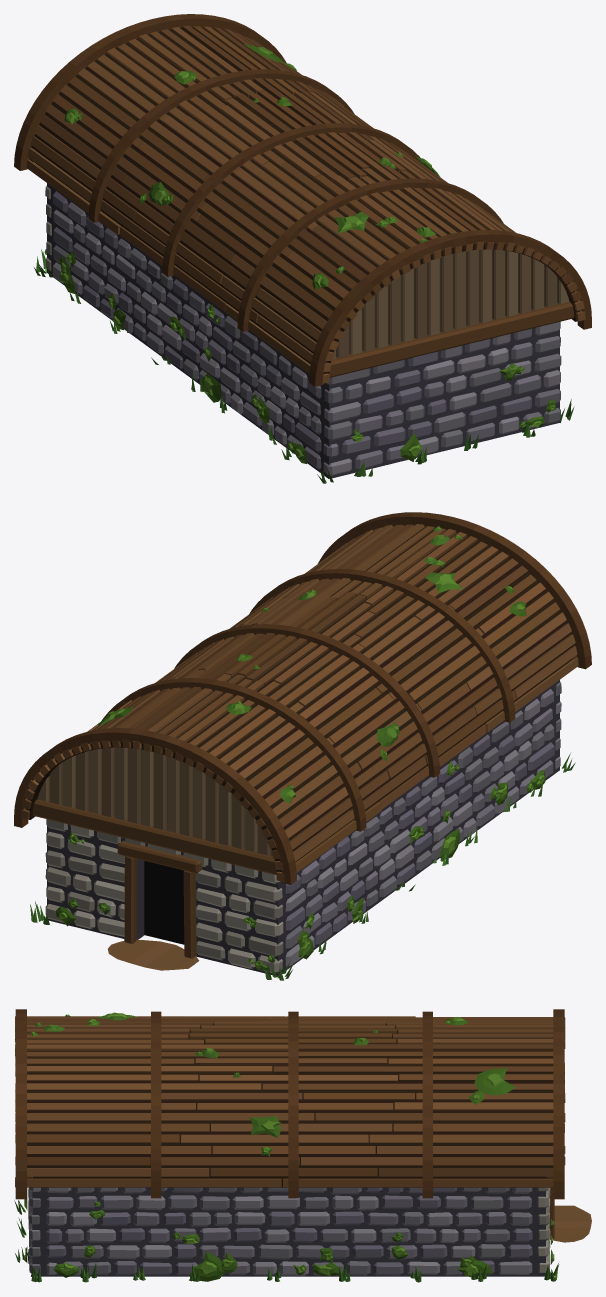
File: small-cellar.glb
3 renders of one model, top to bottom at view 1: azimuth 30°, elevation 25°; view 2: azimuth 150°, elevation 25°; view 3: azimuth 270°, elevation 25°, orthographic. The views are drawn at different scales.
Parts seen in each view (by area): view 1: TownToonCellar; view 2: TownToonCellar; view 3: TownToonCellar.
Boxes of the visible parts, <box> form: TownToonCellar: <box>14,14,591,483</box>; TownToonCellar: <box>14,512,591,980</box>; TownToonCellar: <box>14,1009,591,1282</box>.
Size of the model in its own units: 3.08 by 2.37 by 6.11.
